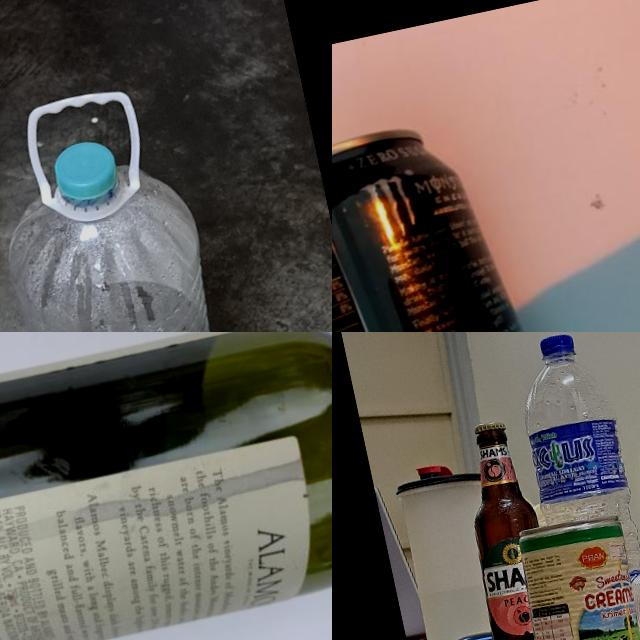garrafa de vidro: (0, 332, 332, 640), (450, 415, 566, 640)
garrafa plástica: (0, 154, 242, 332), (505, 332, 640, 640)
lata: (332, 102, 587, 332), (513, 507, 640, 640)
tampa plástica: (49, 136, 120, 202), (533, 332, 579, 366)
